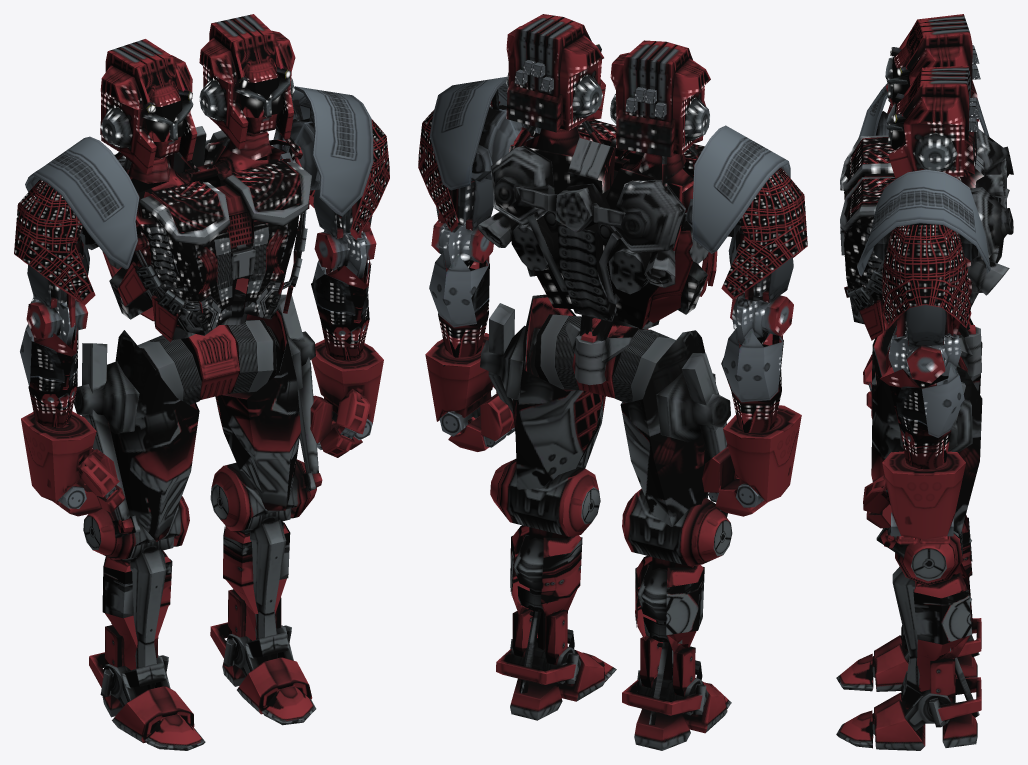
Rendered from twin_cities.glb.
The picture shows the model from 3 angles, left to right: view 1: azimuth 30°, elevation 25°; view 2: azimuth 150°, elevation 25°; view 3: azimuth 270°, elevation 25°; orthographic projection. The views are drawn at different scales.
Visible parts, largest first — view 1: Object_11, Object_5, Object_9, Object_14, Object_8, Object_10, Object_13, Object_7, Object_4, Object_12, Object_6, Object_3 (+1 smaller); view 2: Object_11, Object_5, Object_9, Object_8, Object_14, Object_10, Object_13, Object_3, Object_7, Object_6, Object_4, Object_2 (+1 smaller); view 3: Object_9, Object_13, Object_5, Object_11, Object_8, Object_14, Object_10, Object_7, Object_12, Object_6, Object_3, Object_2.
Boxes of the visible parts, x1,y1,x2,y2 form: Object_11: (74, 294, 322, 559); Object_5: (109, 125, 311, 335); Object_9: (100, 14, 295, 174); Object_14: (25, 86, 373, 269); Object_8: (102, 508, 291, 689); Object_10: (21, 339, 383, 516); Object_13: (14, 119, 389, 339); Object_7: (20, 230, 371, 427); Object_4: (137, 320, 276, 405); Object_12: (112, 657, 316, 750); Object_6: (89, 622, 293, 717); Object_3: (87, 202, 309, 342); Object_11: (480, 294, 732, 566); Object_5: (491, 119, 707, 329); Object_9: (506, 14, 710, 157); Object_8: (510, 525, 704, 724); Object_14: (429, 76, 790, 253); Object_10: (425, 333, 801, 516); Object_13: (418, 100, 807, 336); Object_3: (478, 203, 717, 323); Object_7: (429, 223, 783, 432); Object_6: (496, 629, 708, 750); Object_4: (534, 314, 675, 403); Object_2: (565, 310, 659, 385); Object_9: (885, 14, 980, 178); Object_13: (882, 103, 971, 383); Object_5: (840, 129, 1013, 334); Object_11: (871, 317, 982, 585); Object_8: (892, 515, 979, 717); Object_14: (857, 83, 990, 276); Object_10: (863, 354, 965, 544); Object_7: (880, 330, 964, 469); Object_12: (836, 635, 925, 750); Object_6: (901, 618, 981, 747); Object_3: (844, 188, 1009, 340); Object_2: (905, 323, 981, 376).
Bounding box in the file's own units: 1.4 × 2.36 × 0.5766.
13 materials, 13 textured.
